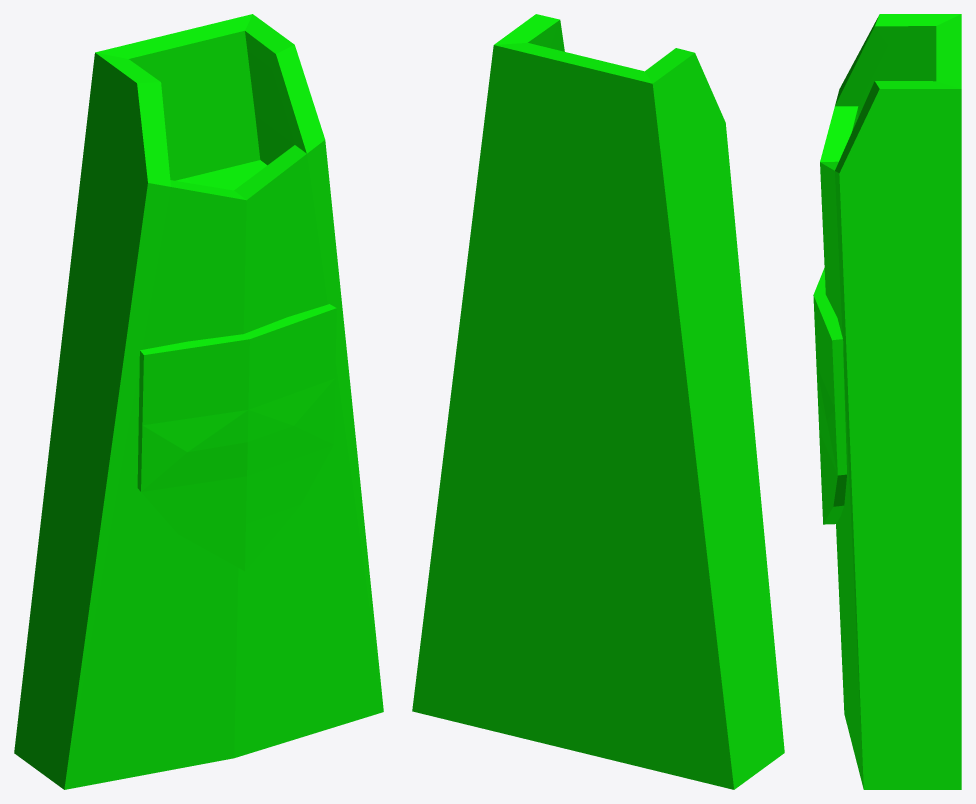
Rendered from SM_Quiver_Bolt_Empty_B_Fantasy.fbx.
The picture shows the model from 3 angles, left to right: view 1: azimuth 30°, elevation 25°; view 2: azimuth 150°, elevation 25°; view 3: azimuth 270°, elevation 25°; orthographic projection. The views are drawn at different scales.
Visible parts, largest first — view 1: quiver-bolt-empty-b-fantasy; view 2: quiver-bolt-empty-b-fantasy; view 3: quiver-bolt-empty-b-fantasy.
Boxes of the visible parts, box(x1,y1,x2,y2) form: quiver-bolt-empty-b-fantasy: box(14, 14, 383, 789); quiver-bolt-empty-b-fantasy: box(412, 14, 784, 789); quiver-bolt-empty-b-fantasy: box(813, 14, 961, 789).
Bounding box in the file's own units: 0.148 × 0.3014 × 0.061.
